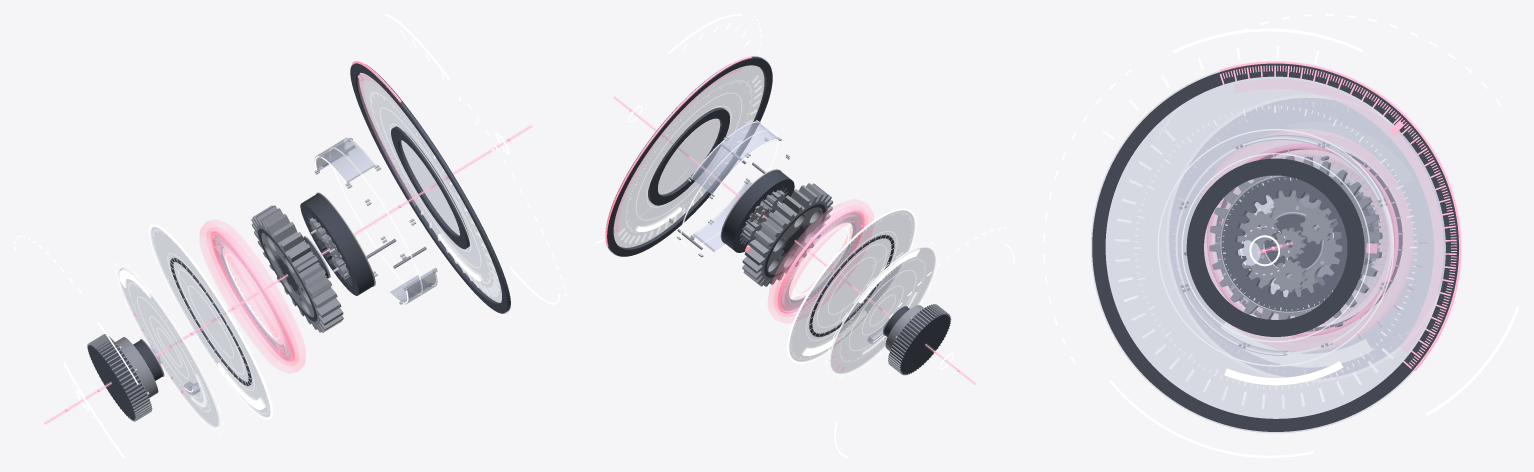
File: exploded_assembly_hq.glb
The picture shows the model from 3 angles, left to right: view 1: azimuth 30°, elevation 25°; view 2: azimuth 150°, elevation 25°; view 3: azimuth 270°, elevation 25°; orthographic projection. The views are drawn at different scales.
Parts seen in each view (by area): view 1: dial_glass, red_halo, d2_glass, gear_main, d1_glass, dial_base_ring, planet_ring, dial_inner_ring_solid, hub_base, shell_a, d2_rim, hub_knurl (+14 smaller); view 2: dial_glass, d2_glass, d1_glass, red_halo, gear_main, dial_base_ring, shell_a, planet_ring, hub_base, dial_inner_ring_solid, red_glass, d2_rim (+17 smaller); view 3: dial_glass, d2_glass, dial_base_ring, dial_inner_ring_solid, red_halo, planet_ring, gear_main, dial_red_band, d2_rim, dial_inner_rings, planet_gears, dial_red_ticks (+18 smaller).
Boxes of the visible parts, left/top/right/bottom form: dial_glass: left=357, top=73, right=510, bottom=313; red_halo: left=199, top=219, right=305, bottom=373; d2_glass: left=151, top=227, right=270, bottom=417; gear_main: left=251, top=205, right=343, bottom=332; d1_glass: left=119, top=267, right=218, bottom=427; dial_base_ring: left=350, top=63, right=510, bottom=313; planet_ring: left=300, top=193, right=374, bottom=295; dial_inner_ring_solid: left=391, top=126, right=469, bottom=249; hub_base: left=88, top=339, right=149, bottom=420; shell_a: left=314, top=138, right=375, bottom=182; d2_rim: left=149, top=224, right=272, bottom=419; hub_knurl: left=87, top=334, right=152, bottom=421; dial_glass: left=607, top=56, right=771, bottom=256; d2_glass: left=789, top=210, right=914, bottom=361; d1_glass: left=830, top=247, right=935, bottom=373; red_halo: left=768, top=199, right=873, bottom=323; gear_main: left=742, top=183, right=832, bottom=286; dial_base_ring: left=607, top=56, right=772, bottom=256; shell_a: left=691, top=121, right=777, bottom=194; planet_ring: left=722, top=170, right=794, bottom=252; hub_base: left=889, top=307, right=950, bottom=374; dial_inner_ring_solid: left=648, top=107, right=729, bottom=205; red_glass: left=780, top=212, right=862, bottom=310; d2_rim: left=787, top=208, right=916, bottom=363; dial_glass: left=1091, top=71, right=1445, bottom=432; d2_glass: left=1169, top=98, right=1445, bottom=378; dial_base_ring: left=1092, top=63, right=1458, bottom=431; dial_inner_ring_solid: left=1186, top=158, right=1364, bottom=336; red_halo: left=1199, top=129, right=1412, bottom=350; planet_ring: left=1221, top=176, right=1347, bottom=311; gear_main: left=1209, top=156, right=1382, bottom=323; dial_red_band: left=1233, top=79, right=1443, bottom=352; d2_rim: left=1166, top=94, right=1442, bottom=382; dial_inner_rings: left=1157, top=129, right=1393, bottom=366; planet_gears: left=1244, top=211, right=1333, bottom=292; dial_red_ticks: left=1220, top=65, right=1456, bottom=368.
Bounding box in the file's own units: 13.97 × 12.04 × 9.87.
